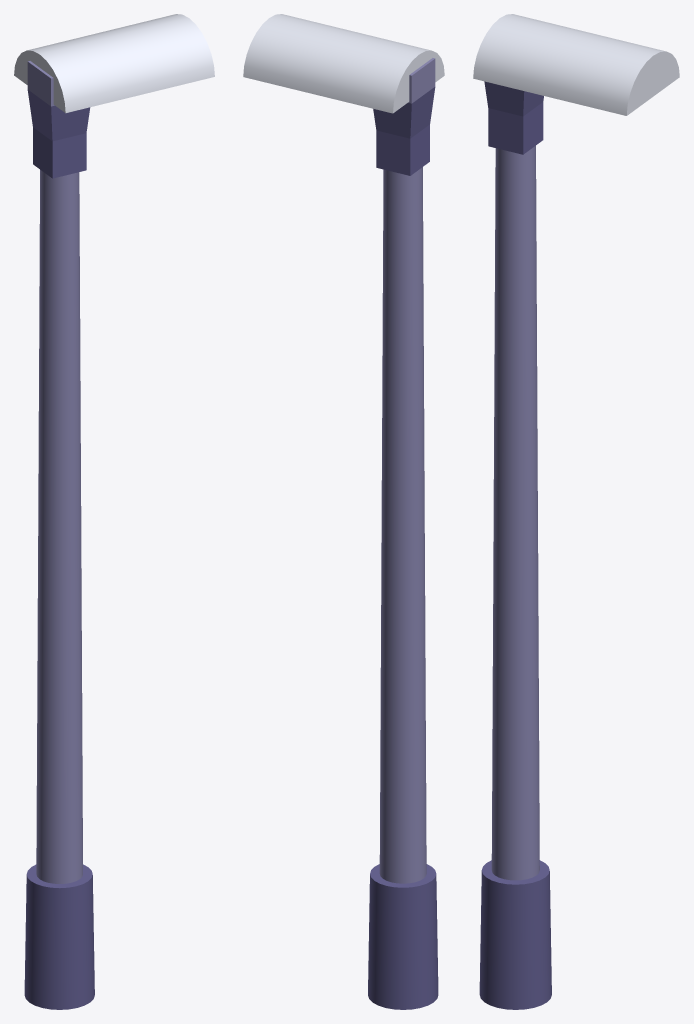
The model's file is Lamp.fbx.
The picture shows the model from 3 angles, left to right: view 1: azimuth 30°, elevation 25°; view 2: azimuth 150°, elevation 25°; view 3: azimuth 330°, elevation 25°; orthographic projection. The views are drawn at different scales.
Parts seen in each view (by area): view 1: column_round, cylinder_half; view 2: column_round, cylinder_half; view 3: column_round, cylinder_half.
Part boxes in pixels (box(x1,y1,x2,y2)): column_round: box(24, 61, 94, 1009); cylinder_half: box(14, 14, 214, 113); column_round: box(368, 58, 438, 1009); cylinder_half: box(243, 14, 444, 113); column_round: box(479, 81, 551, 1009); cylinder_half: box(473, 14, 679, 115).
Bounding box in the file's own units: 6.38 × 35.5 × 3.52.
